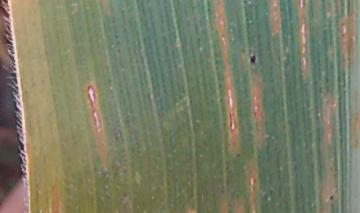tarspot: (249, 53, 258, 65), (329, 192, 335, 203), (235, 151, 242, 159)
